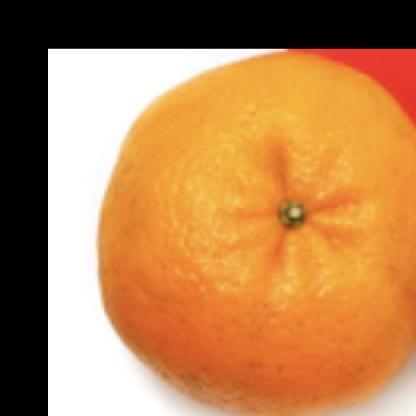fresh: (97, 56, 416, 416)
